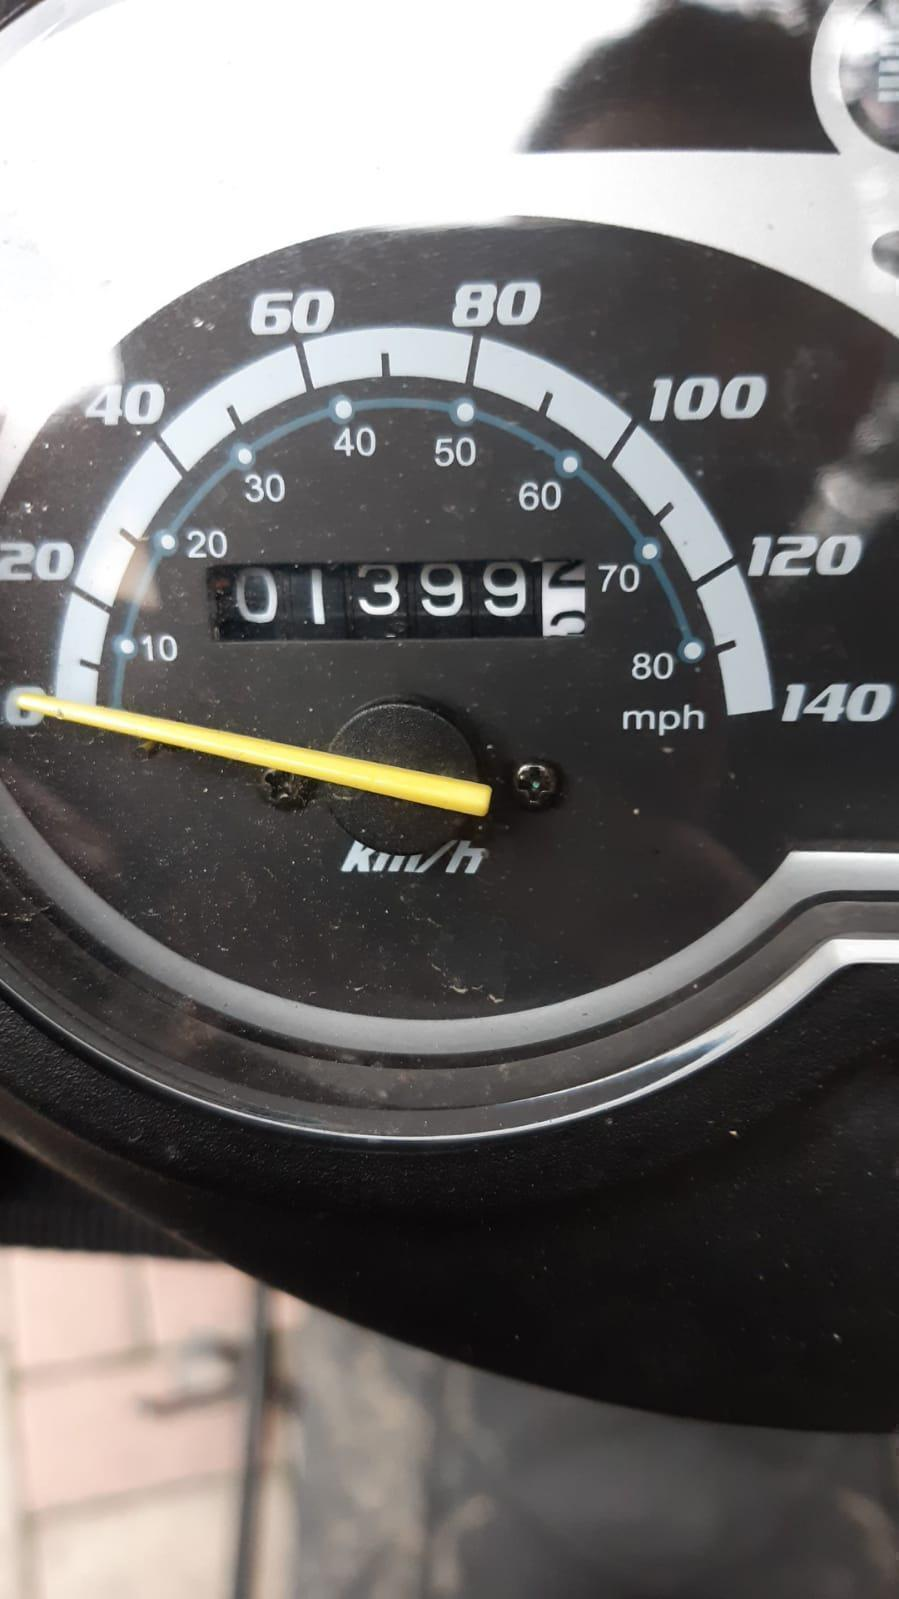0: (233, 564, 286, 624)
1: (304, 564, 333, 630)
2: (547, 550, 589, 596)
3: (355, 560, 407, 625)
9: (419, 559, 468, 624), (481, 559, 526, 622)
odometer: (196, 553, 597, 651)
